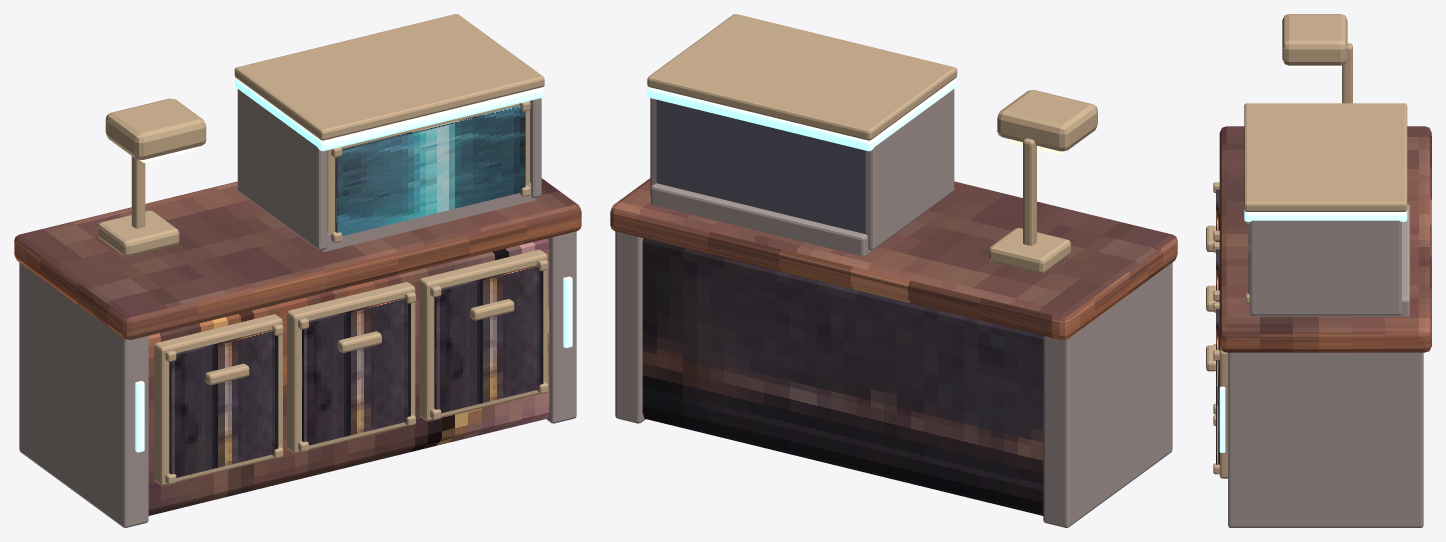
3 renders of one model, left to right at view 1: azimuth 30°, elevation 25°; view 2: azimuth 150°, elevation 25°; view 3: azimuth 270°, elevation 25°, orthographic. The views are drawn at different scales.
Parts seen in each view (by area): view 1: worktop, corner beam, lid rim, cabinet, painted display, painted drawer, painted drawer.002, painted drawer.001, display upright, panel rim, panel rim.002, panel rim.001 (+10 smaller); view 2: cabinet, worktop, corner beam, lid rim, display back, display upright, corner beam.001, display base, lamp shade, display top, lamp foot, lamp arm; view 3: corner beam.001, lid rim, worktop, display upright.001, lamp shade, display top, display base, panel rim.002, painted drawer.002, lamp arm, status strip.001.
Boxes of the visible parts, x1,y1,x2,y2 form: worktop: [14, 178, 581, 339]; corner beam: [19, 262, 148, 527]; lid rim: [234, 14, 544, 140]; cabinet: [148, 238, 549, 515]; painted display: [335, 105, 525, 235]; painted drawer: [169, 330, 278, 477]; painted drawer.002: [434, 265, 543, 413]; painted drawer.001: [302, 297, 410, 445]; display upright: [237, 89, 327, 250]; panel rim: [154, 314, 282, 485]; panel rim.002: [419, 249, 547, 420]; panel rim.001: [287, 282, 415, 453]; cabinet: [642, 238, 1043, 515]; worktop: [610, 178, 1177, 339]; corner beam: [1043, 262, 1172, 527]; lid rim: [647, 14, 957, 140]; display back: [656, 99, 865, 233]; display upright: [865, 89, 954, 250]; corner beam.001: [615, 231, 645, 423]; display base: [651, 183, 871, 256]; lamp shade: [997, 90, 1097, 151]; display top: [647, 78, 957, 151]; lamp foot: [989, 228, 1070, 273]; lamp arm: [1023, 138, 1036, 245]; corner beam.001: [1228, 352, 1423, 527]; lid rim: [1244, 103, 1407, 211]; worktop: [1219, 126, 1431, 352]; display upright.001: [1249, 220, 1401, 315]; lamp shade: [1282, 14, 1347, 65]; display top: [1244, 210, 1407, 221]; display base: [1253, 204, 1409, 316]; panel rim.002: [1219, 346, 1227, 478]; painted drawer.002: [1216, 309, 1219, 464]; lamp arm: [1342, 43, 1352, 103]; status strip.001: [1219, 386, 1225, 452].
Bounding box in the file's own units: 90 × 67.5 × 41.5.
Materials: 9 (4 with a texture image).
